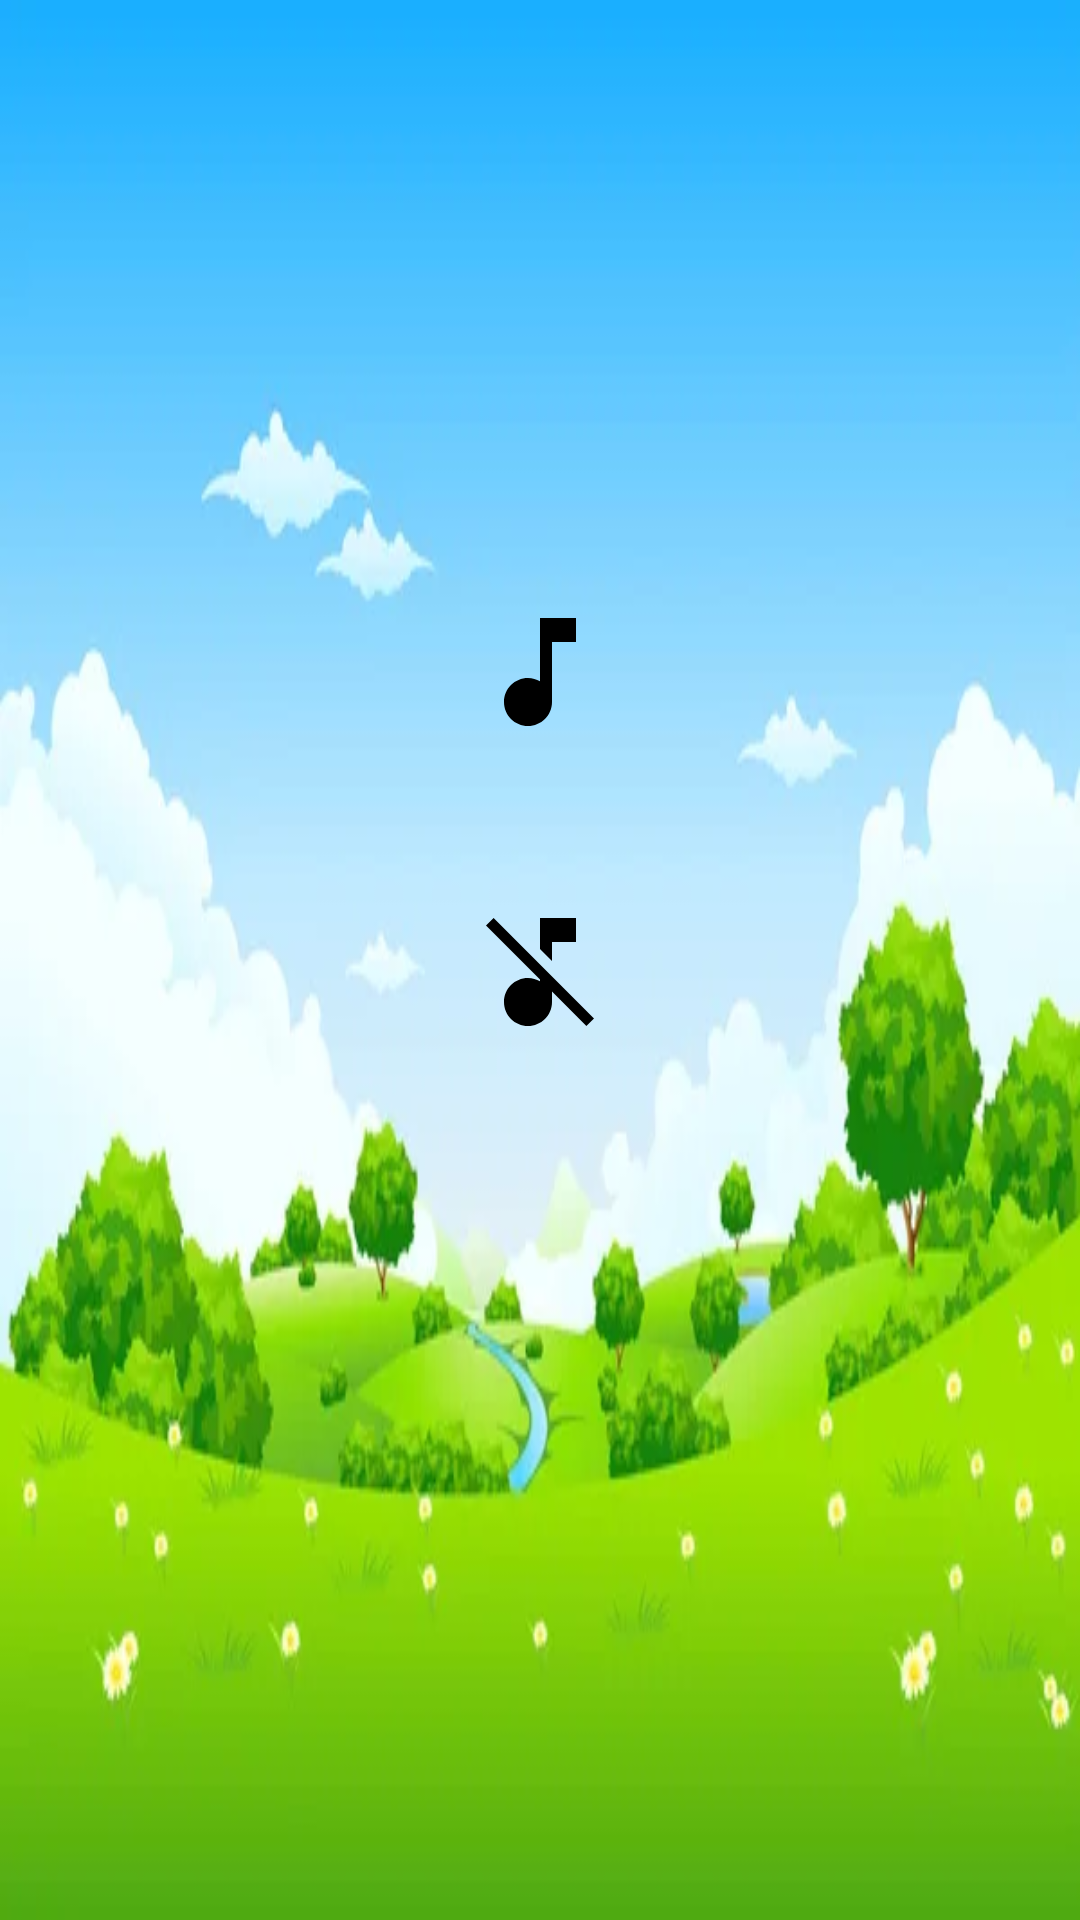

Icon click points for this 1080×1920 phone screenshot, format [x,y]:
music off: [540,972]
music play: [540,681]
